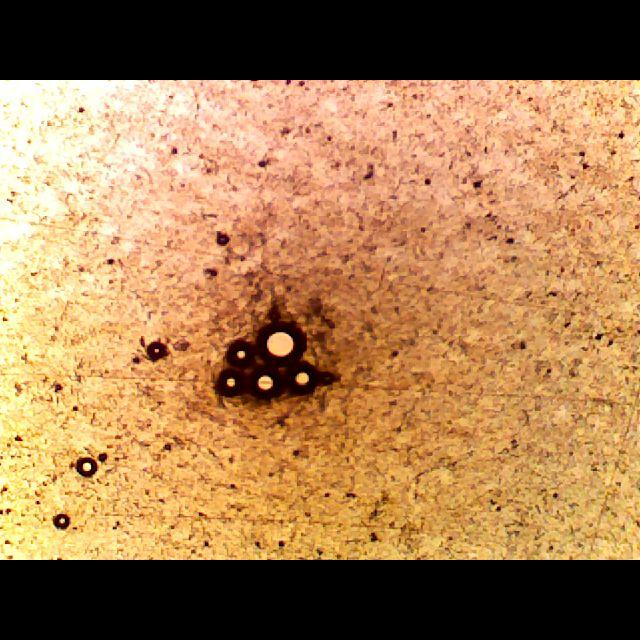microbeads: (254, 317, 310, 365), (246, 359, 284, 408), (212, 365, 244, 401), (224, 339, 256, 371)
